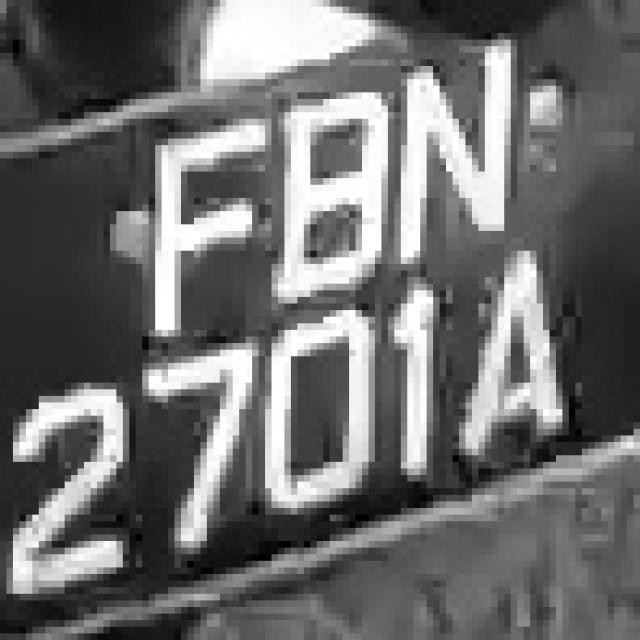0: (246, 297, 375, 515)
1: (381, 257, 459, 508)
2: (0, 370, 155, 614)
7: (129, 356, 265, 574)
A: (452, 238, 582, 455)
B: (272, 79, 382, 297)
F: (136, 112, 272, 323)
N: (388, 53, 530, 257)
